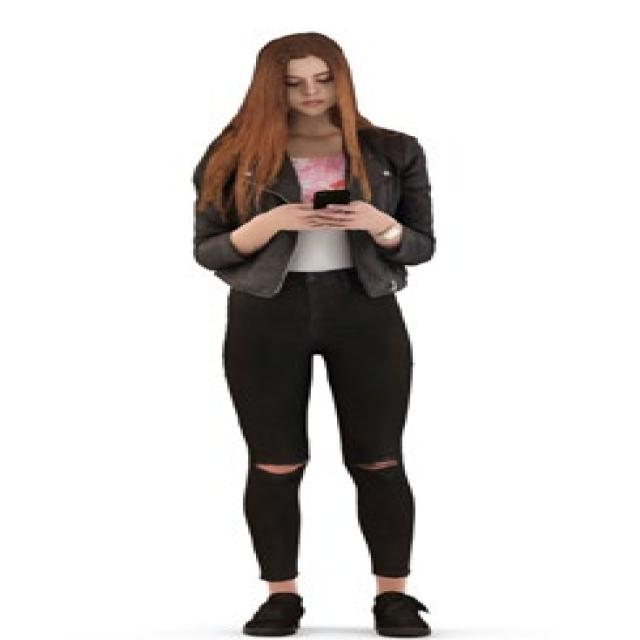standing: (188, 29, 452, 640)
